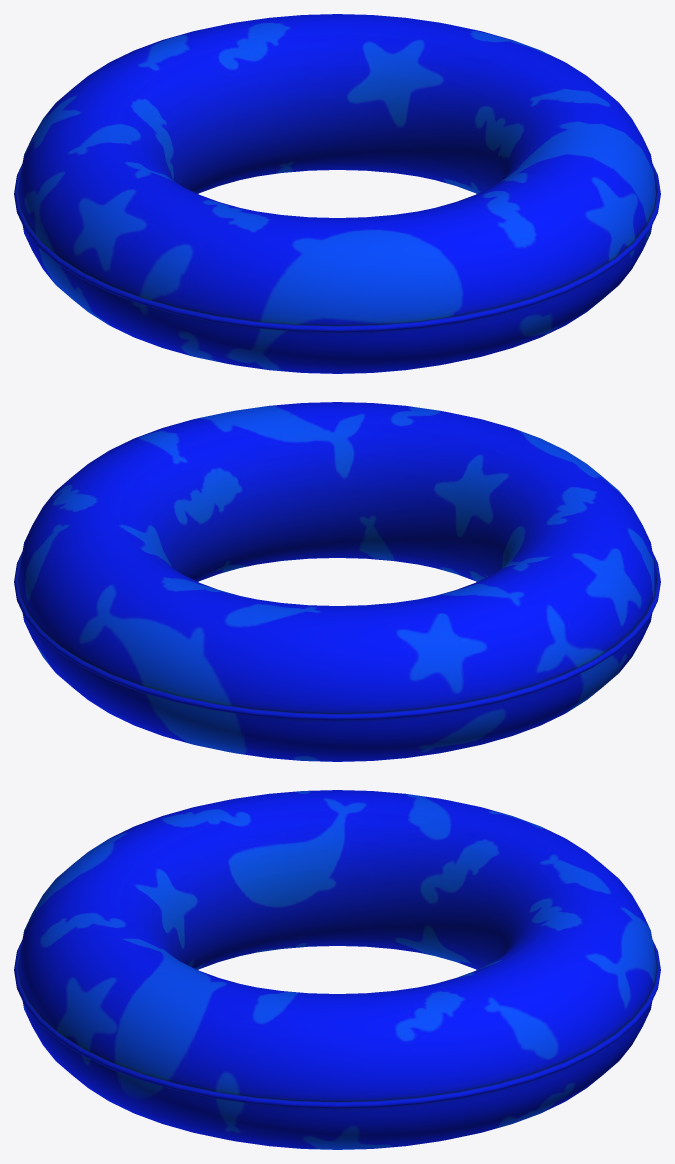
The model's file is decor_floats_float2.glb.
3 renders of one model, top to bottom at view 1: azimuth 30°, elevation 25°; view 2: azimuth 150°, elevation 25°; view 3: azimuth 270°, elevation 25°, orthographic.
Parts seen in each view (by area): view 1: Swimming Ring; view 2: Swimming Ring; view 3: Swimming Ring.
Boxes of the visible parts, <box> form: Swimming Ring: <box>14,14,660,373</box>; Swimming Ring: <box>14,402,660,761</box>; Swimming Ring: <box>14,790,660,1149</box>.
Size of the model in its own units: 0.7826 by 0.19 by 0.7826.
1 material, 1 textured.
